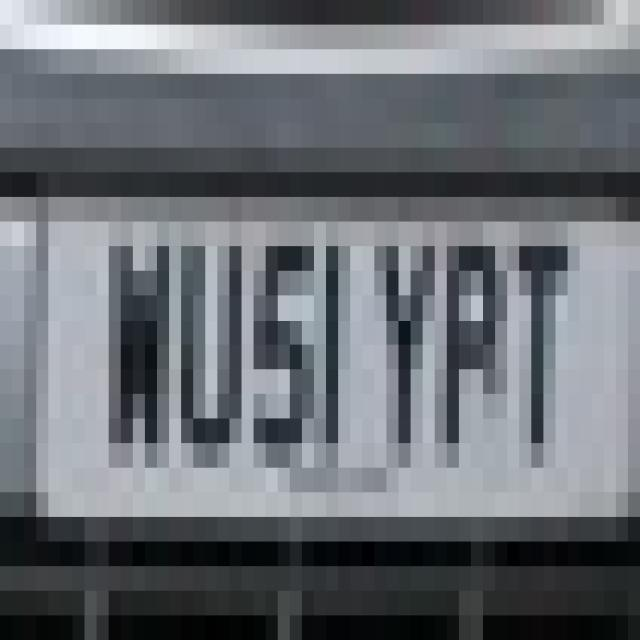LicensePlate: (35, 113, 640, 569)
